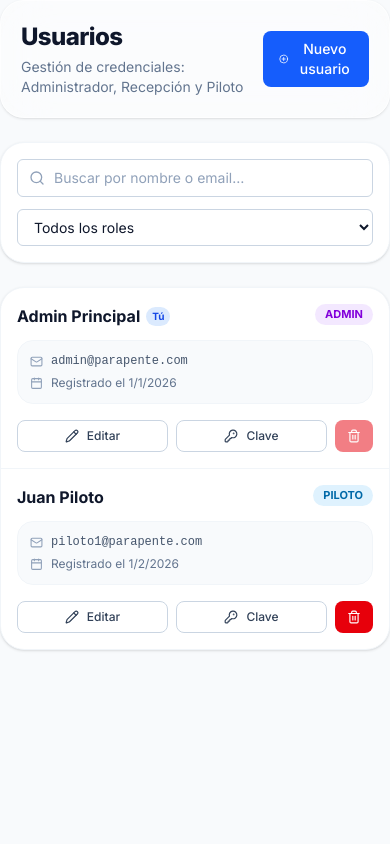
Scenario: AdminUsersPage - Edición de usuario › 1. Al editar a otro usuario, muestra todos los campos (nombre, email, contraseña, rol, piloto)
Expected: the text "Juan Piloto" is shown, [17, 485, 104, 509]
Note: Abrir modal de edición para Juan Piloto (id: 2)
Click the button with aria-label "Editar piloto1@parapente.com". click: x=92, y=617
box: [17, 601, 168, 633]
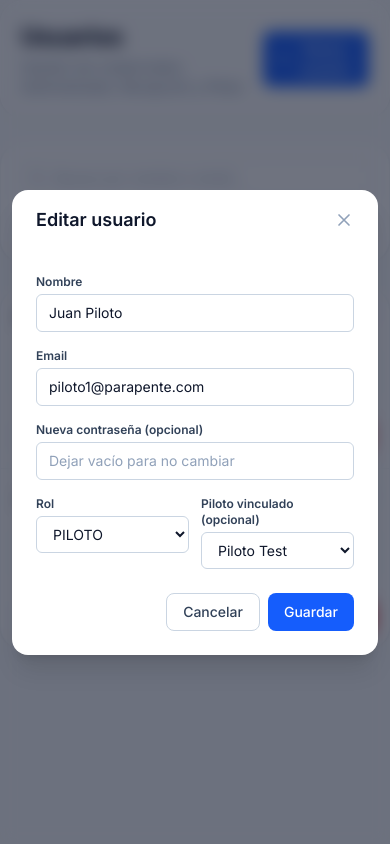
Now the heading "Editar usuario" is shown, box [36, 206, 156, 234]
Now the field with placeholder "Ej: María García" below "Nombre" is shown, box [36, 294, 354, 332]
Now the field with placeholder "usuario@parapente.cl" below "Email" is shown, box [36, 368, 354, 406]
